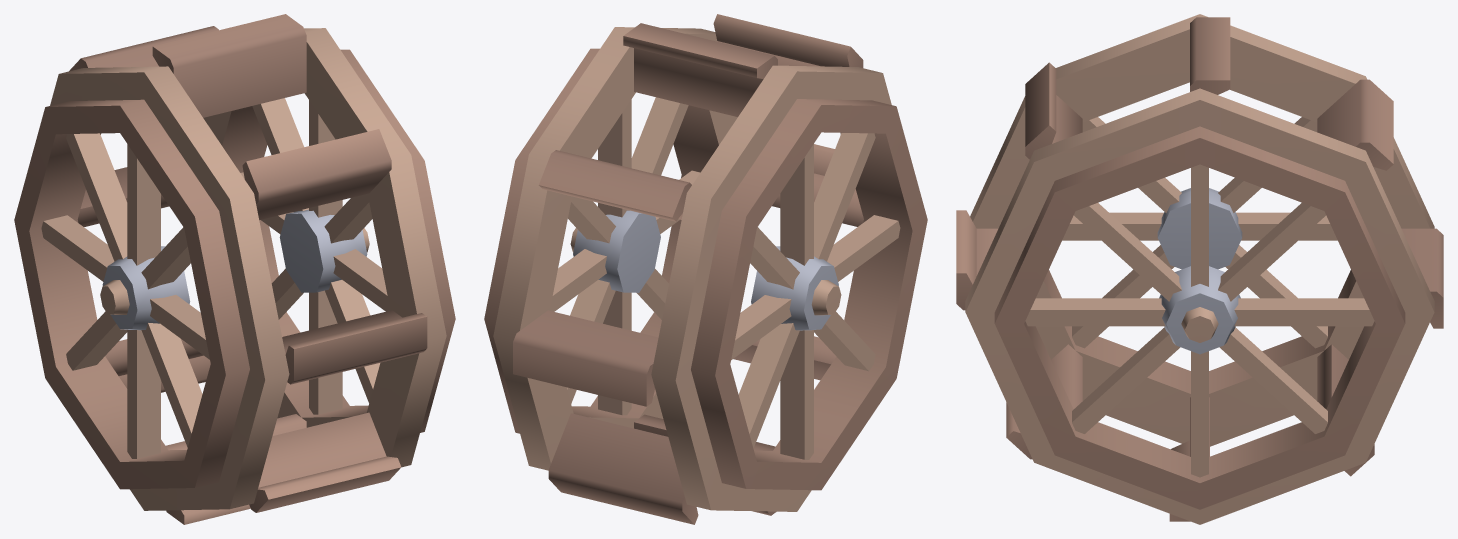
File: watermill-wide.glb
The picture shows the model from 3 angles, left to right: view 1: azimuth 30°, elevation 25°; view 2: azimuth 150°, elevation 25°; view 3: azimuth 270°, elevation 25°; orthographic projection. The views are drawn at different scales.
Visible parts, largest first — view 1: watermill-wide; view 2: watermill-wide; view 3: watermill-wide.
Boxes of the visible parts, left/top/right/bottom form: watermill-wide: left=14, top=14, right=455, bottom=524; watermill-wide: left=484, top=14, right=927, bottom=524; watermill-wide: left=956, top=14, right=1443, bottom=524.
Size of the model in its own units: 1.05 by 1.8 by 1.8.
